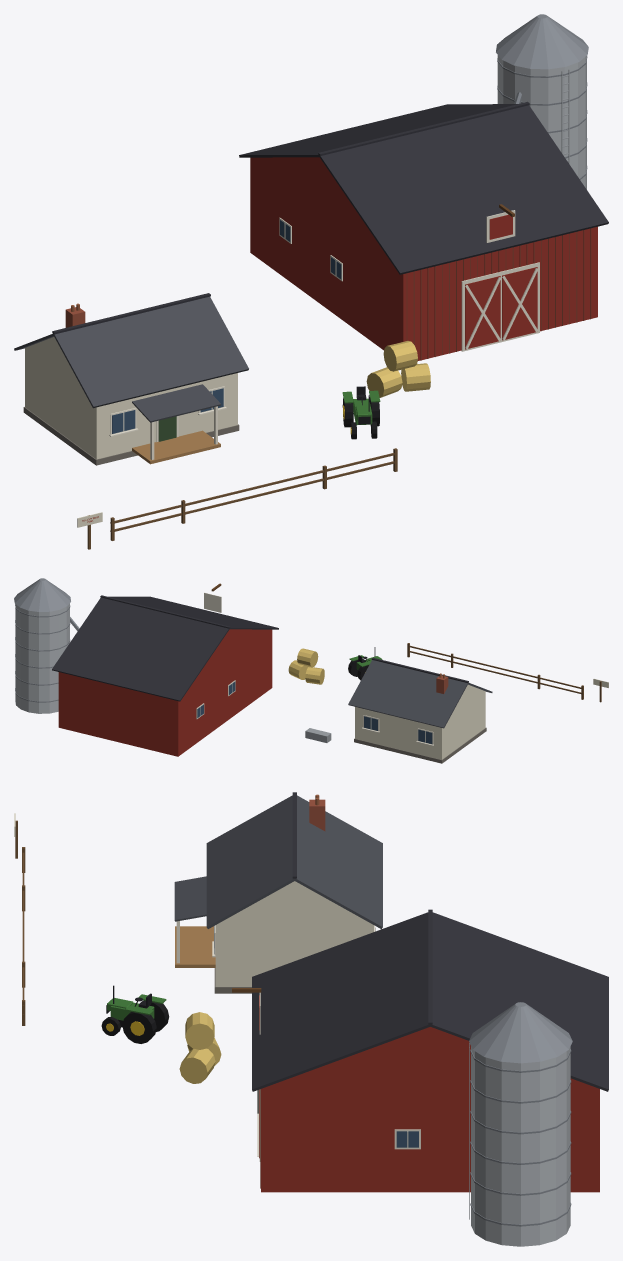
File: farm.hollow.glb
The picture shows the model from 3 angles, top to bottom: view 1: azimuth 30°, elevation 25°; view 2: azimuth 150°, elevation 25°; view 3: azimuth 270°, elevation 25°; orthographic projection. The views are drawn at different scales.
Parts seen in each view (by area): view 1: barn-roof-f, barn-walls, fh-roof-f, fh-walls, silo, barn-roof-b, barn-roof-gable-1, silo-dome, barn-door-1, barn-door1, fh-porch, fh-deck (+10 smaller); view 2: barn-walls, barn-roof-b, fh-roof-b, silo, fh-walls, barn-roof-gable-1, barn-roof-f, silo-dome, fh-plinth, fh-roof-gable-1, barn-roof-ridge, fence-rail0.95 (+7 smaller); view 3: barn-walls, barn-roof-f, silo, barn-roof-b, barn-roof-gable1, fh-roof-f, fh-roof-b, fh-walls, silo-dome, fh-roof-gable1, fh-deck, fh-porch (+3 smaller).
Boxes of the visible parts, box(x1,y1,x2,y2) form: barn-roof-f: box(319, 105, 608, 274); barn-walls: box(250, 157, 597, 360); fh-roof-f: box(53, 296, 248, 408); fh-walls: box(25, 350, 237, 459); silo: box(497, 55, 586, 189); barn-roof-b: box(239, 104, 517, 157); barn-roof-gable-1: box(250, 157, 394, 267); silo-dome: box(496, 14, 588, 69); barn-door-1: box(465, 276, 500, 349); barn-door1: box(502, 267, 537, 340); fh-porch: box(132, 384, 221, 422); fh-deck: box(132, 430, 220, 464); barn-walls: box(58, 629, 272, 756); barn-roof-b: box(52, 597, 229, 701); fh-roof-b: box(348, 660, 467, 728); silo: box(15, 603, 69, 713); fh-walls: box(355, 695, 485, 759); barn-roof-gable-1: box(185, 629, 272, 695); barn-roof-f: box(108, 596, 278, 629); silo-dome: box(14, 578, 70, 611); fh-plinth: box(354, 727, 486, 763); fh-roof-gable-1: box(446, 684, 485, 724); barn-roof-ridge: box(100, 595, 230, 628); fence-rail0.95: box(409, 645, 583, 689); barn-walls: box(261, 1086, 599, 1192); barn-roof-f: box(252, 912, 430, 1091); silo: box(471, 1046, 570, 1246); barn-roof-b: box(431, 912, 608, 1091); barn-roof-gable1: box(261, 1027, 599, 1091); fh-roof-f: box(206, 795, 295, 928); fh-roof-b: box(294, 795, 382, 929); fh-walls: box(215, 923, 373, 986); silo-dome: box(469, 1002, 572, 1063); fh-roof-gable1: box(215, 881, 373, 929); fh-deck: box(175, 926, 215, 967); fh-porch: box(174, 876, 206, 921).
Bounding box in the file's own units: 41.5 × 11.1 × 26.32.
